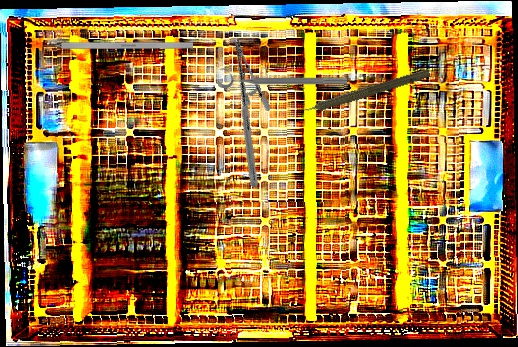Fixation Ring: (218, 67, 347, 88)
Handpiece: (293, 63, 432, 120)
Hook Surgical: (31, 42, 193, 49)
Needle Holder: (175, 36, 316, 190)
